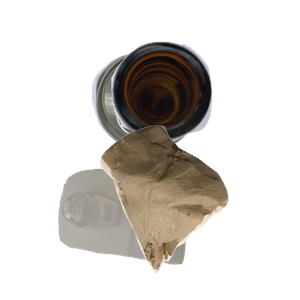glass: (109, 39, 300, 175)
metal: (89, 48, 276, 192)
plastic: (56, 166, 241, 300)
trash: (98, 123, 300, 300)
